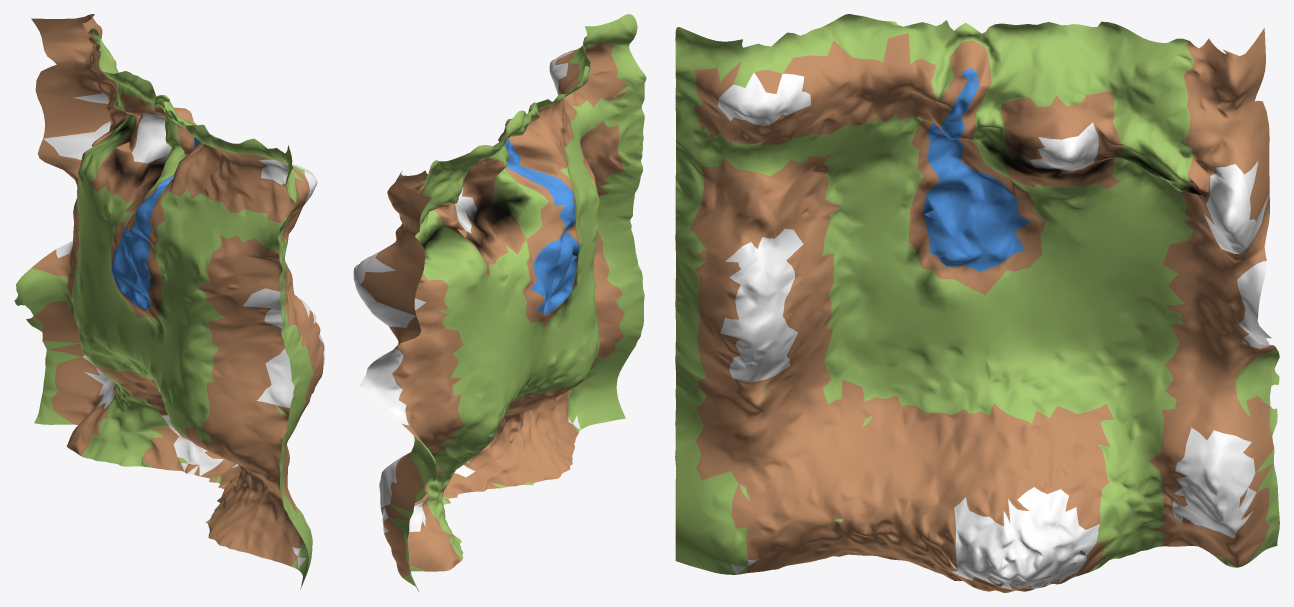
The model's file is terrain.fbx.
3 renders of one model, left to right at view 1: azimuth 30°, elevation 25°; view 2: azimuth 150°, elevation 25°; view 3: azimuth 270°, elevation 25°, orthographic. The views are drawn at different scales.
Parts seen in each view (by area): view 1: Grid; view 2: Grid; view 3: Grid.
Part boxes in pixels (bbox=[...]): Grid: bbox=[14, 14, 324, 588]; Grid: bbox=[353, 14, 646, 591]; Grid: bbox=[675, 14, 1279, 592].
Size of the model in its own units: 620 by 1739 by 1788.
